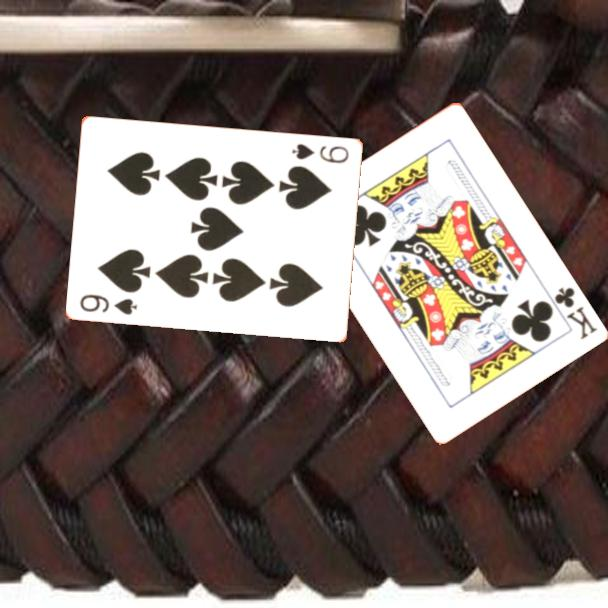c13: (550, 283, 600, 342)
s09: (289, 140, 352, 166), (77, 291, 140, 317)
